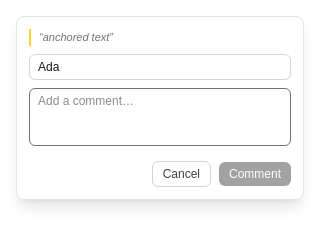
Test case: CommentPopover › keeps the submit button disabled until a body is typed
The width and height of the screenshot is (321, 226).
Expected: the button "Comment" is disabled, top-left (219, 162), bottom-right (291, 186)
Type "hi" into the text box with placeholder "Add a comment…" at (160, 116), box top-left (29, 88), bottom-right (291, 146)
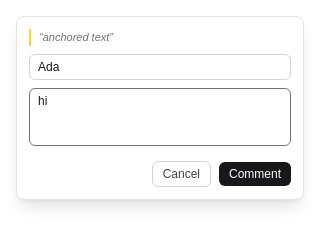
Expected: the button "Comment" is enabled, top-left (219, 162), bottom-right (291, 186)
